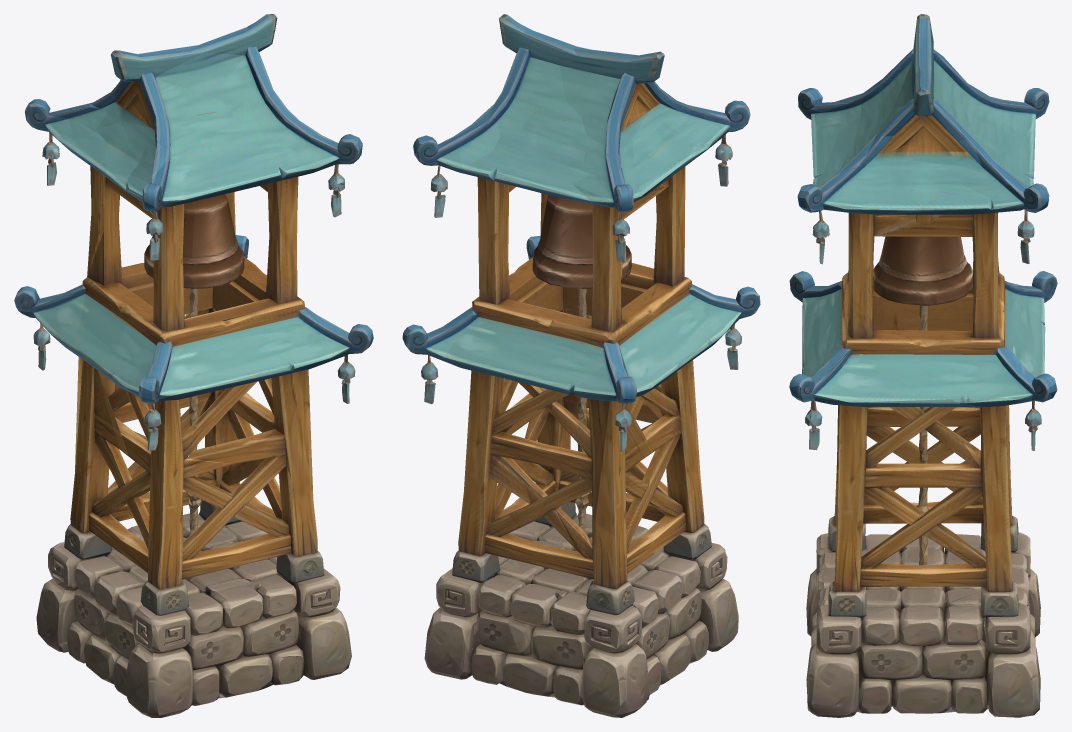
The model's file is bell_tower.fbx.
The picture shows the model from 3 angles, left to right: view 1: azimuth 30°, elevation 25°; view 2: azimuth 150°, elevation 25°; view 3: azimuth 270°, elevation 25°; orthographic projection.
Visible parts, largest first — view 1: bell_tower; view 2: bell_tower; view 3: bell_tower.
Part boxes in pixels (bbox=[...]): bell_tower: bbox=[14, 14, 373, 717]; bell_tower: bbox=[402, 14, 760, 717]; bell_tower: bbox=[789, 14, 1057, 717].
Bounding box in the file's own units: 4.72 × 12 × 4.72.
